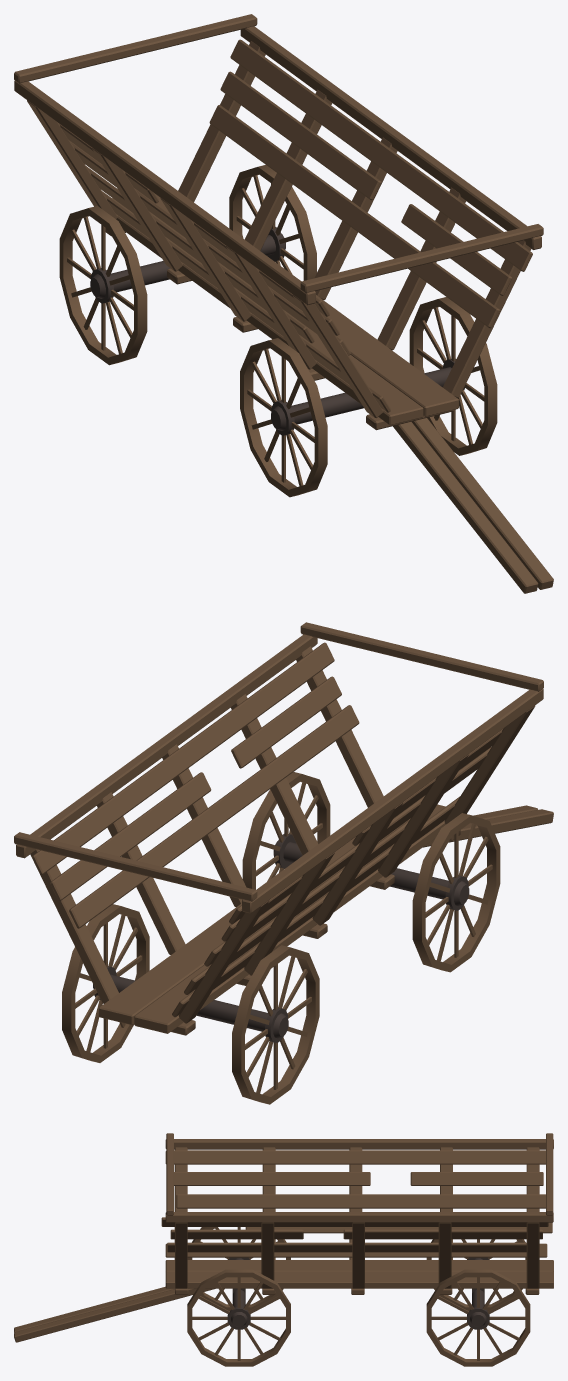
File: car_08.glb
3 renders of one model, top to bottom at view 1: azimuth 30°, elevation 25°; view 2: azimuth 150°, elevation 25°; view 3: azimuth 270°, elevation 25°, orthographic. The views are drawn at different scales.
Visible parts, largest first — view 1: car_08; view 2: car_08; view 3: car_08.
Boxes of the visible parts, left/top/right/bottom form: car_08: left=14, top=14, right=553, bottom=593; car_08: left=14, top=622, right=553, bottom=1104; car_08: left=14, top=1133, right=553, bottom=1366.
Bounding box in the file's own units: 1.5 × 1.51 × 4.44.
1 material, 1 textured.
